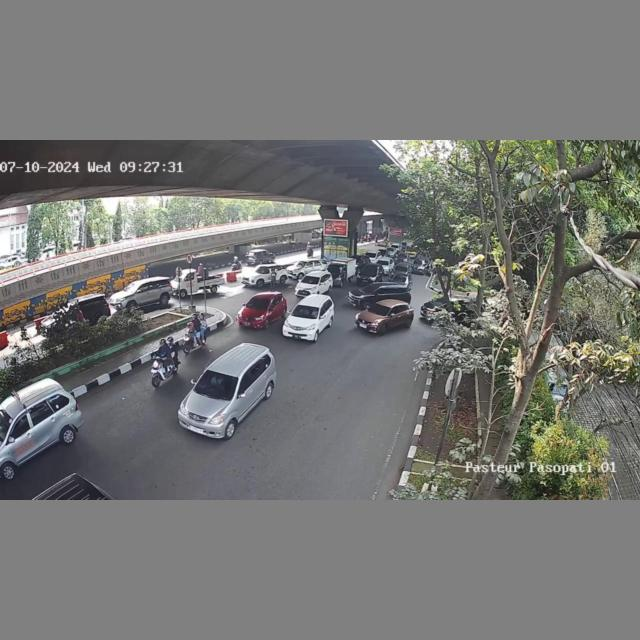windshield: (192, 369, 239, 404), (244, 297, 273, 311), (369, 302, 393, 317), (295, 307, 319, 318), (300, 274, 321, 285)
